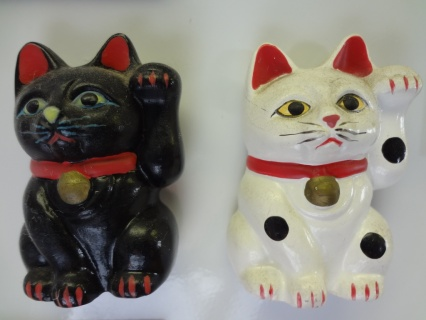Cat: (227, 35, 424, 308), (13, 31, 186, 306)
